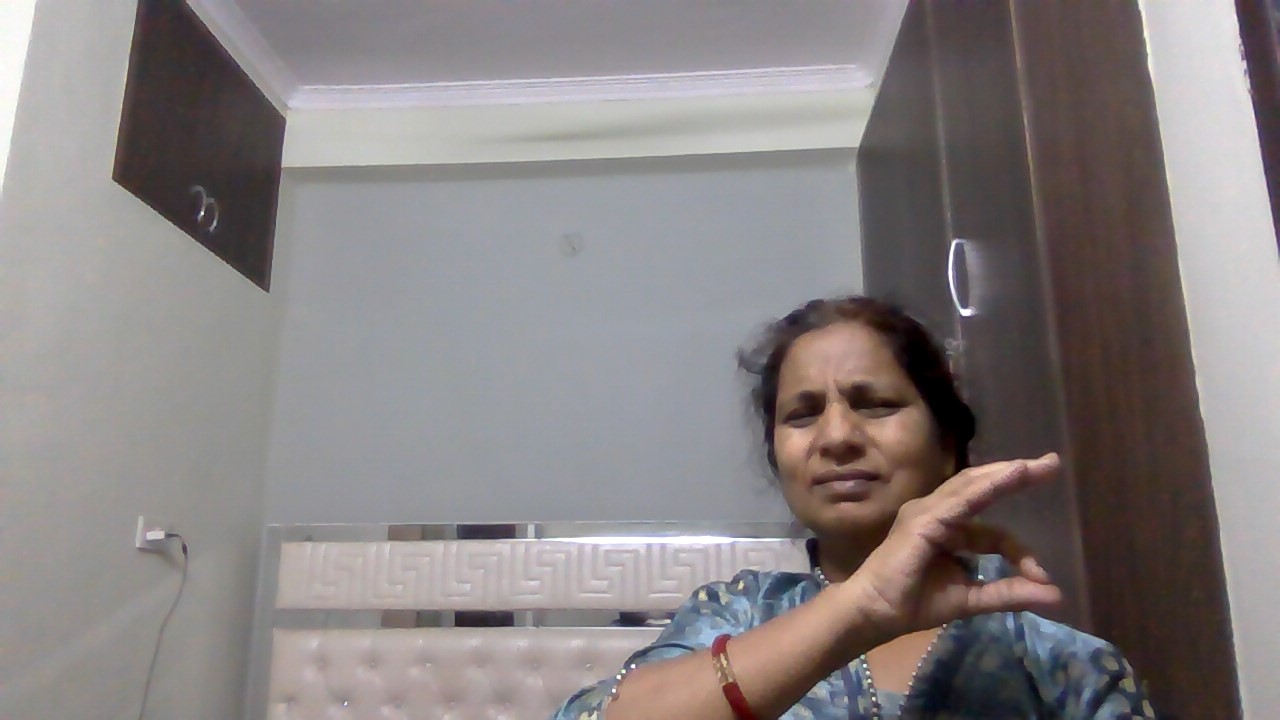Copy: (847, 443, 1077, 656)
